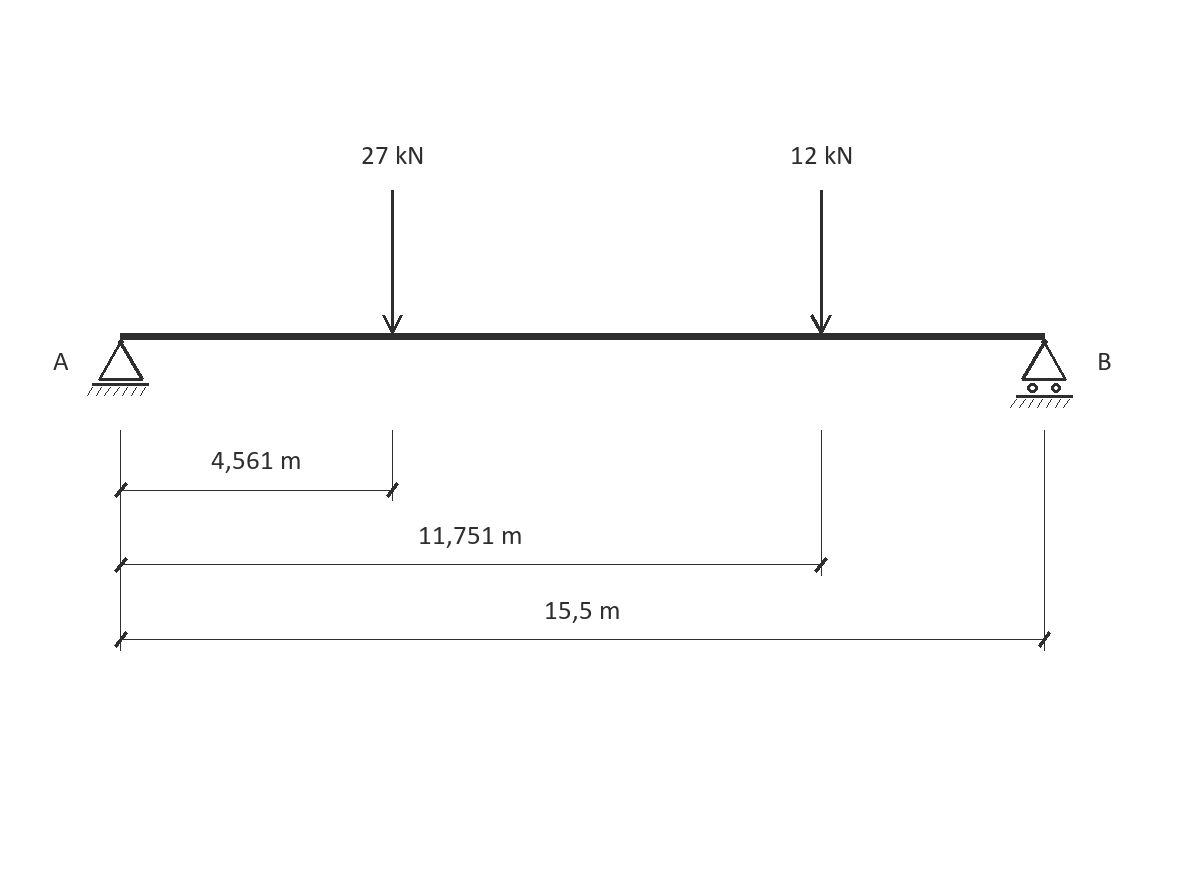pin_support: (87, 339, 149, 396)
point_load: (810, 190, 832, 334), (382, 190, 403, 333)
roller_support: (1010, 339, 1073, 408)
